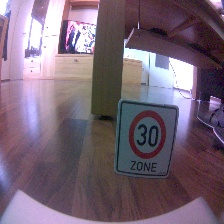dreisiger_zone: (115, 99, 177, 179)
